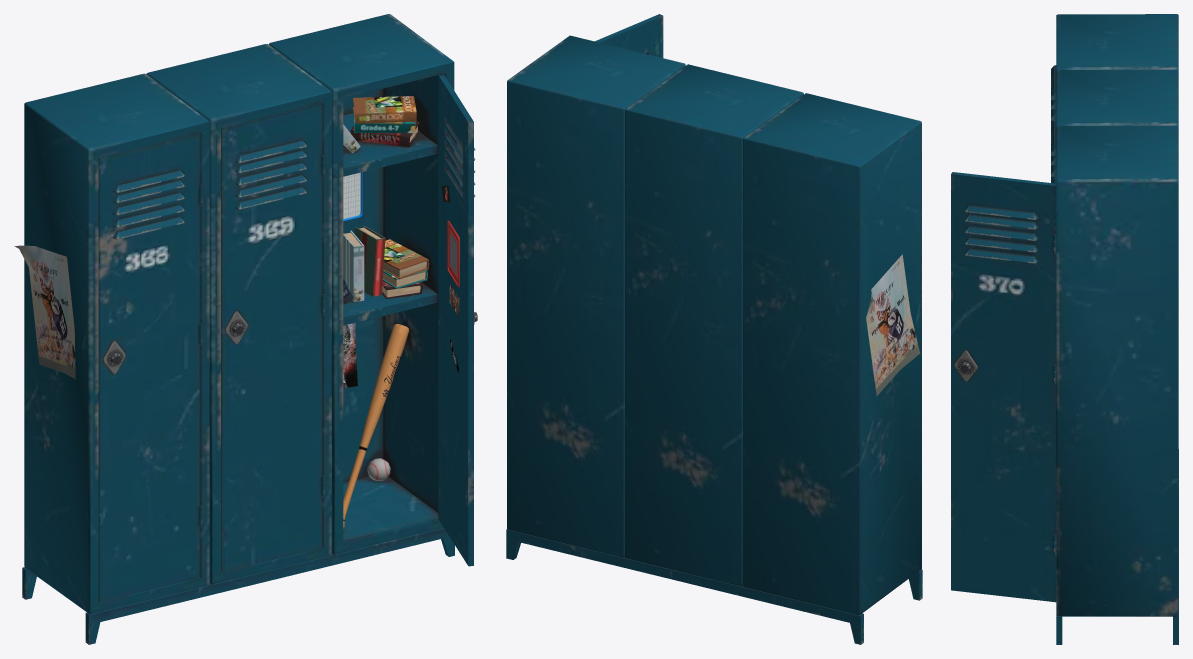
File: locker-double-blue.glb
The picture shows the model from 3 angles, left to right: view 1: azimuth 30°, elevation 25°; view 2: azimuth 150°, elevation 25°; view 3: azimuth 270°, elevation 25°; orthographic projection. The views are drawn at different scales.
Visible parts, largest first — view 1: Box001, Cylinder002; view 2: Box001, Cylinder002; view 3: Box001.
Part boxes in pixels (<box>): Box001: <box>22,14,477,644</box>; Cylinder002: <box>14,96,459,528</box>; Box001: <box>506,14,922,644</box>; Cylinder002: <box>866,254,920,396</box>; Box001: <box>951,14,1178,644</box>.
Size of the model in its own units: 1.48 by 1.85 by 0.8237.
2 materials, 2 textured.
